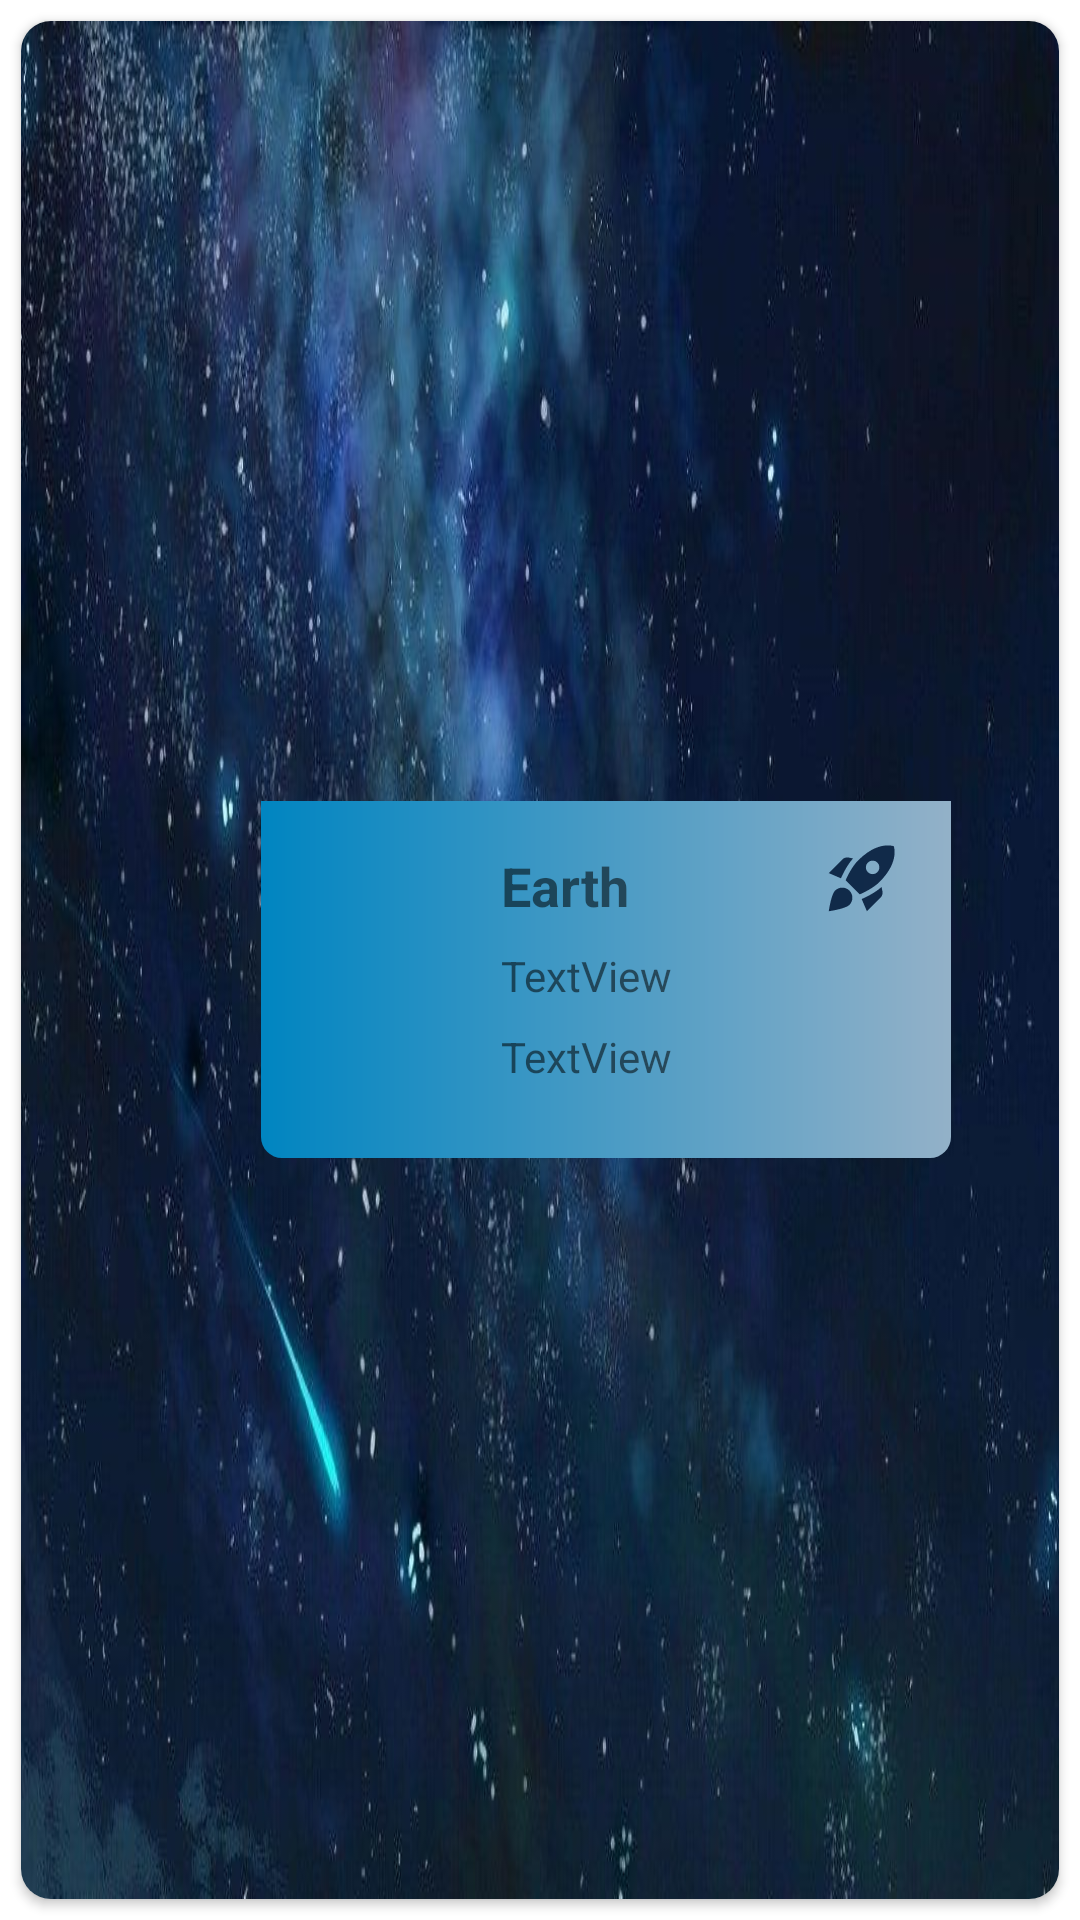

Named icons in this screenshot (1080 × 1920) and their centers, (x=x, y=y):
rocket launch: (x=862, y=878)
